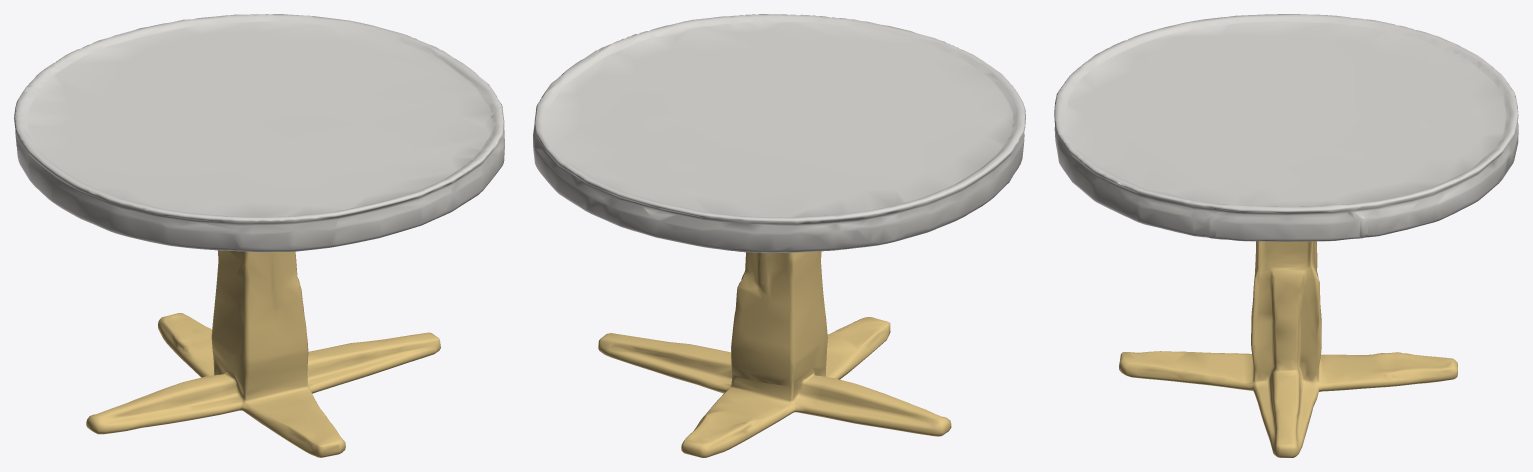
File: table.glb
The picture shows the model from 3 angles, left to right: view 1: azimuth 30°, elevation 25°; view 2: azimuth 150°, elevation 25°; view 3: azimuth 270°, elevation 25°; orthographic projection. The views are drawn at different scales.
Parts seen in each view (by area): view 1: world; view 2: world; view 3: world.
Boxes of the visible parts, left/top/right/bottom form: world: left=14, top=14, right=504, bottom=457; world: left=533, top=14, right=1025, bottom=457; world: left=1054, top=14, right=1518, bottom=457.
Bounding box in the file's own units: 0.7952 × 0.5 × 0.7932.
